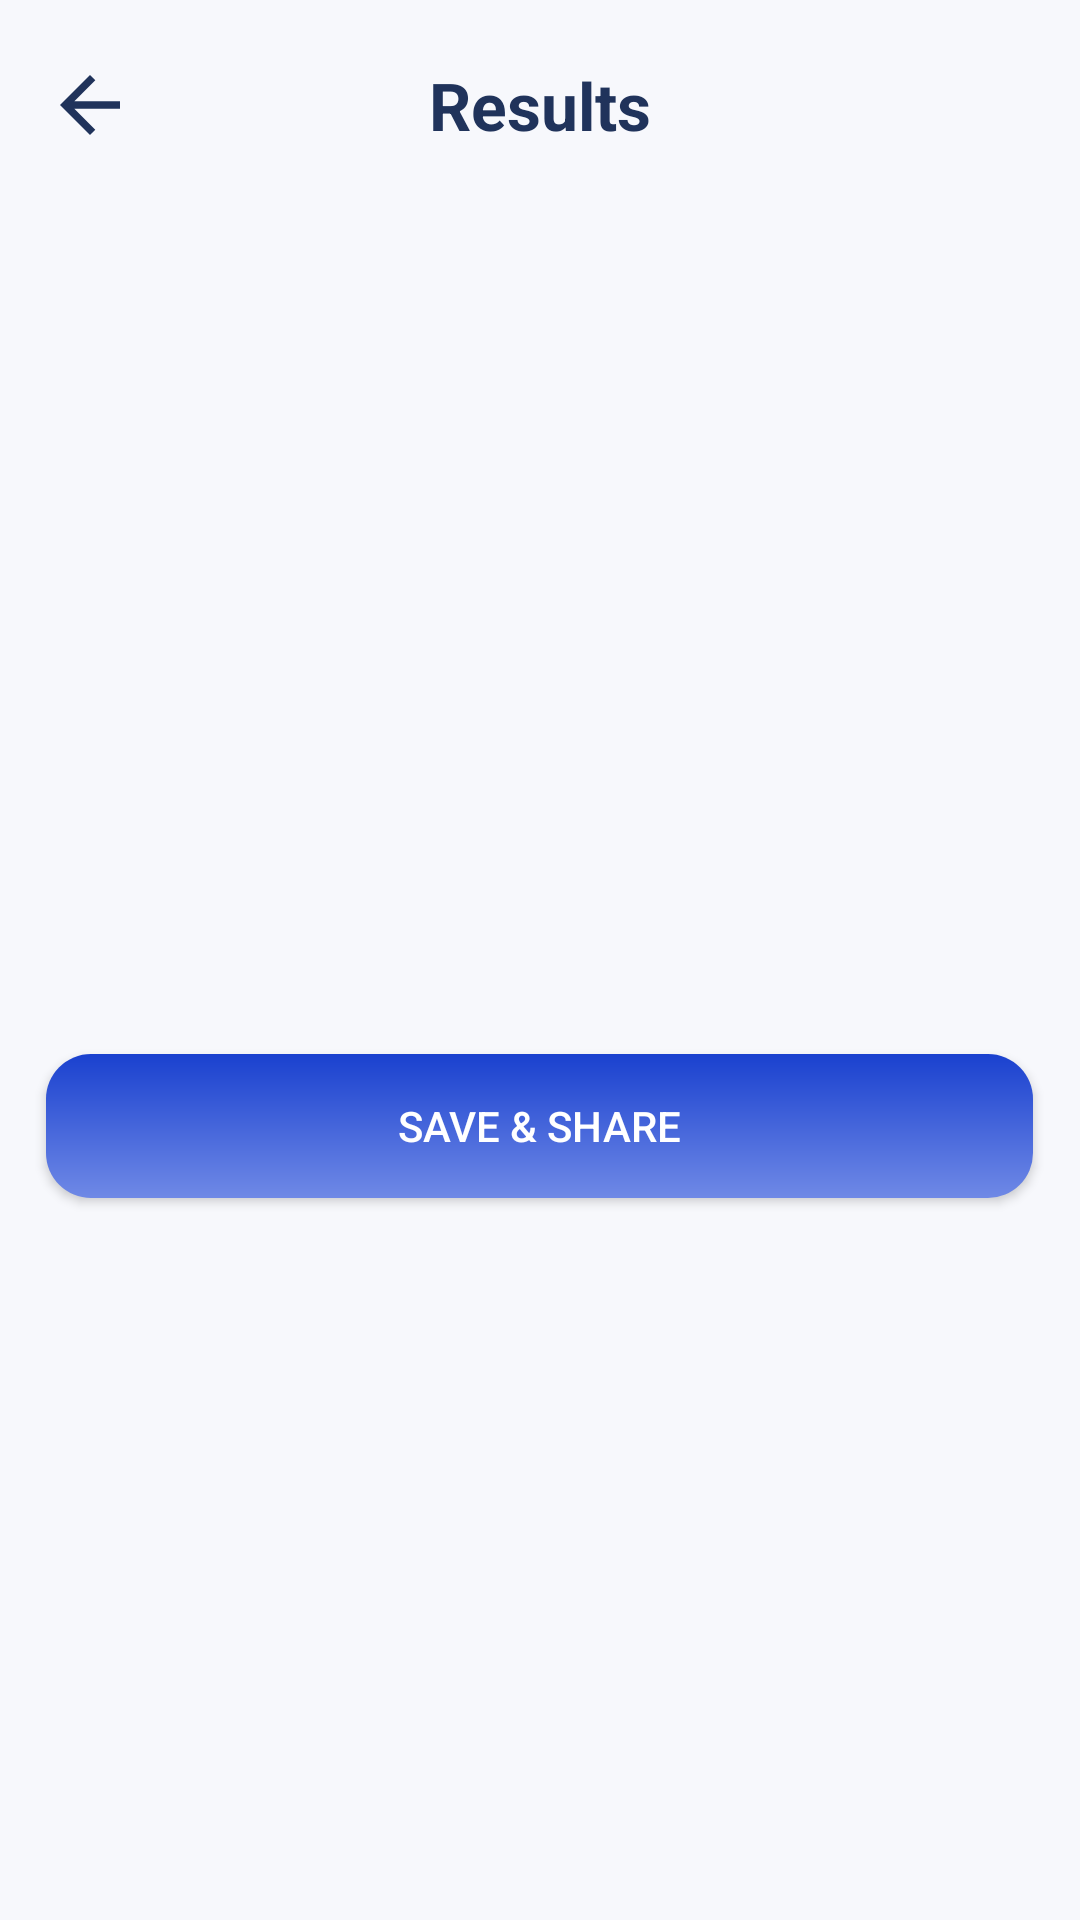

Locate icon controls on the screen. Image size 1080w x 1920h, boxes as (x1, y1, x2, y2).
arrow: (60, 75, 120, 135)
